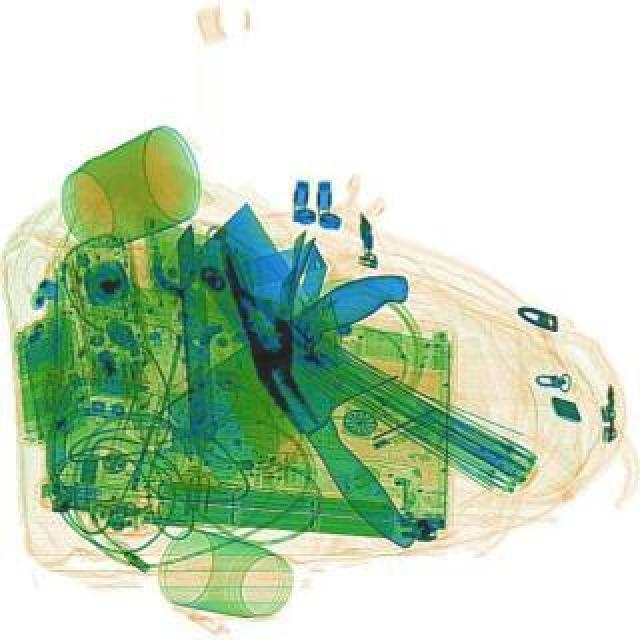knife: (164, 202, 472, 556), (158, 252, 450, 486)
